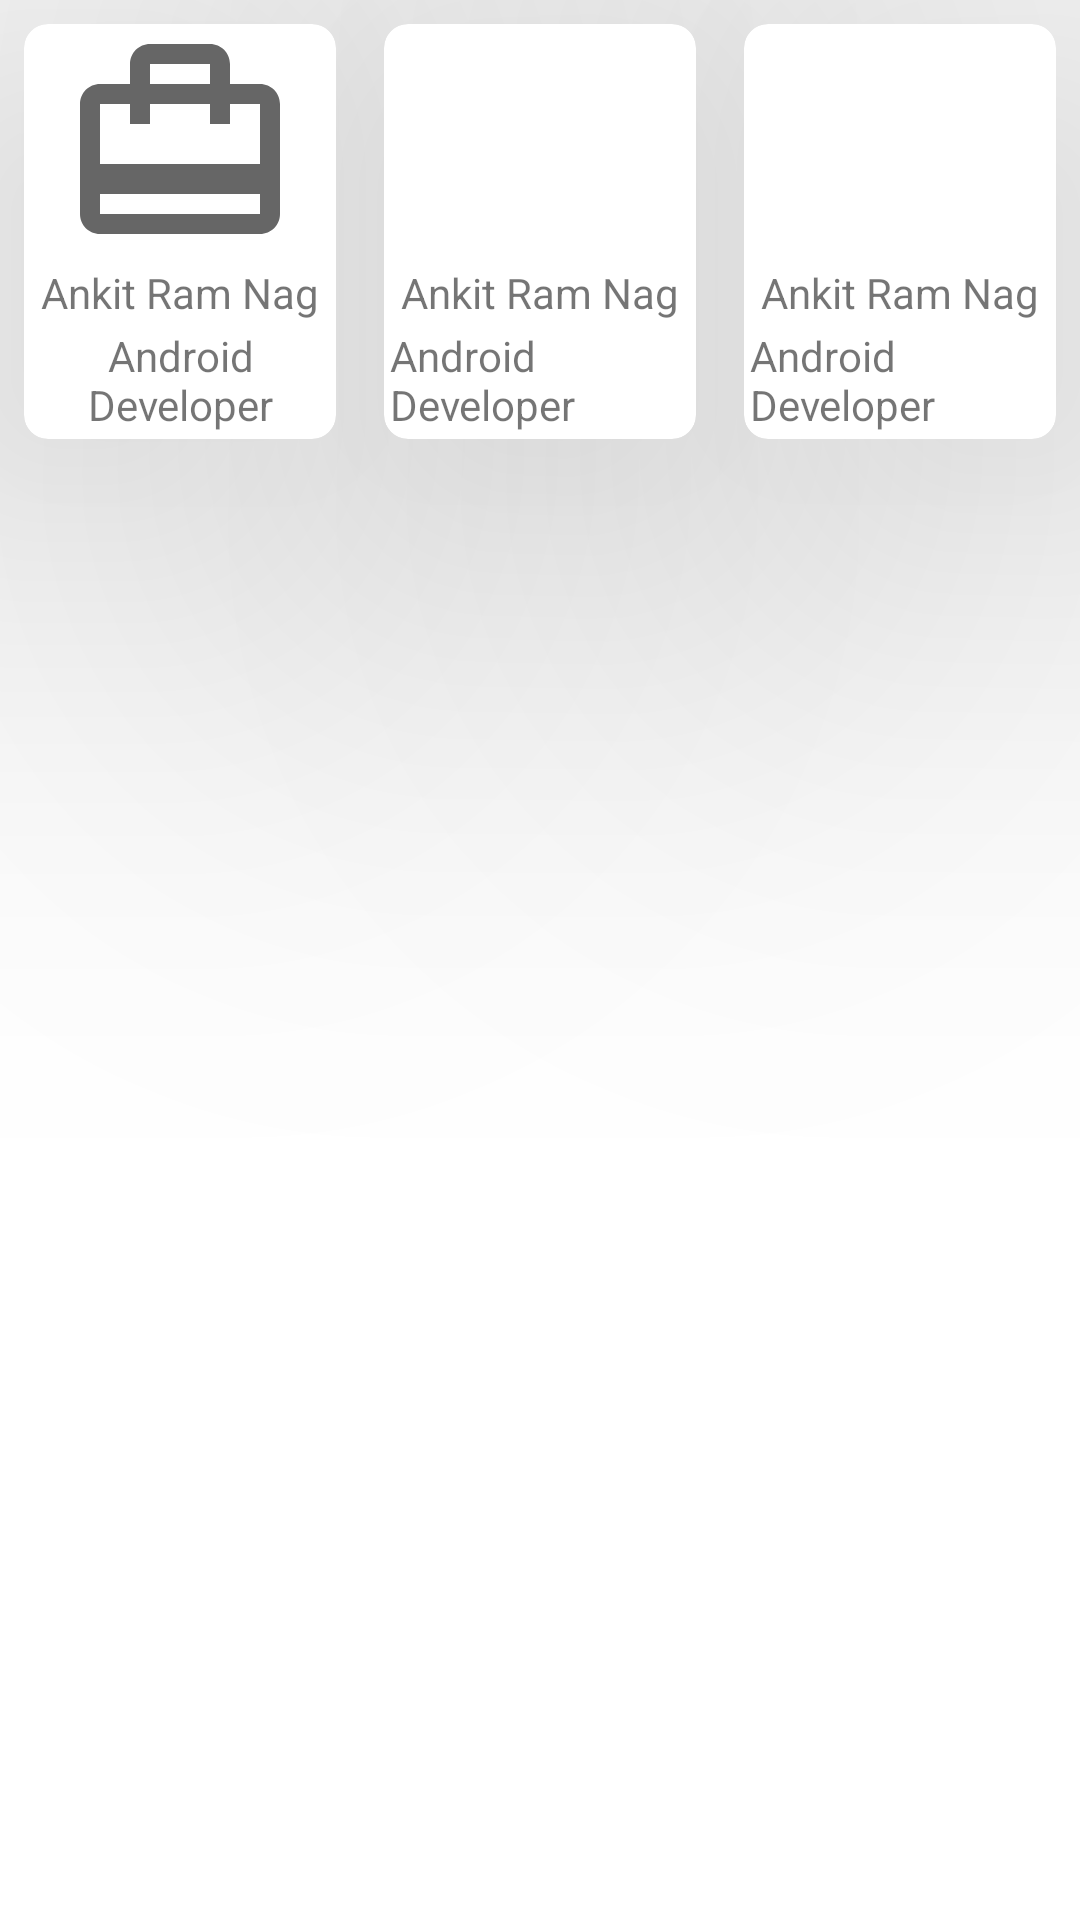

Locate icon controls on the screen. Image size 1080 × 1920, boxes as (x1, y1, x2, y2).
job: (80, 44, 280, 234)
